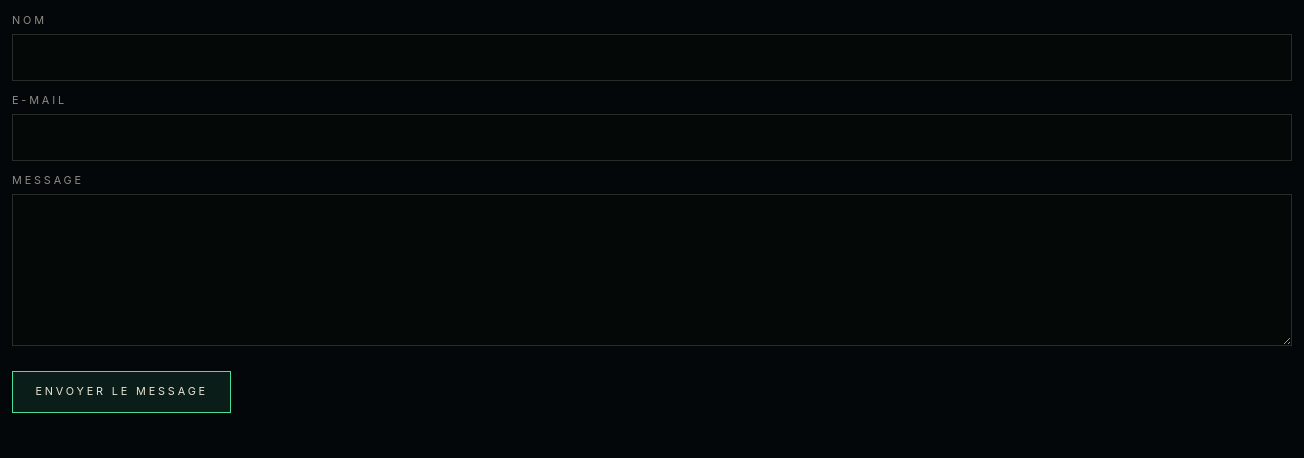
Test: ContactForm › envoie le formulaire et affiche la confirmation
Type "Camille Bertin" into the field labelled "Nom" at coordinates (652, 58), box [12,34,1292,82]
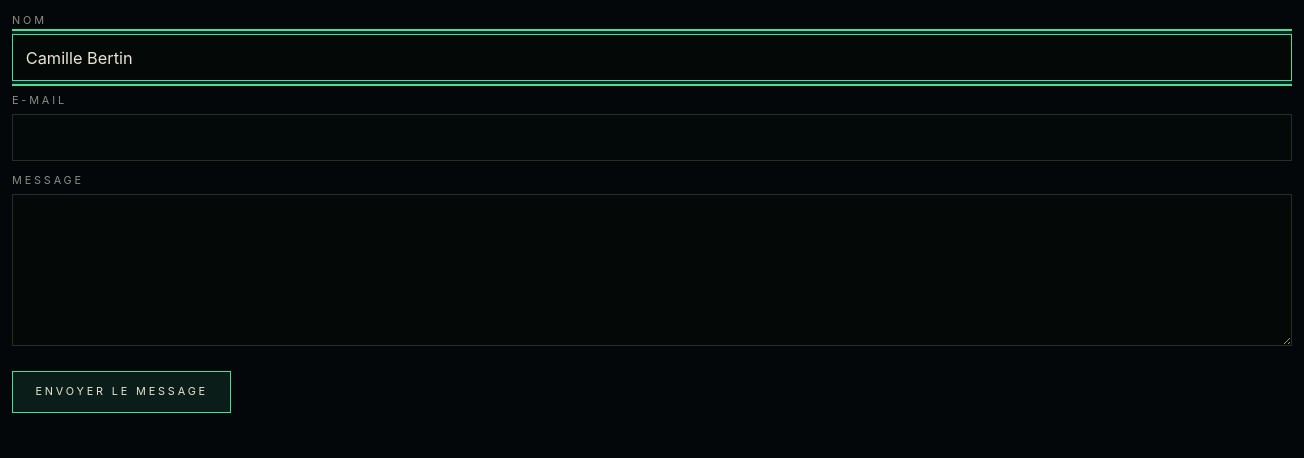
Type "camille@example.com" into the field labelled "E-mail" at coordinates (652, 138), box [12,114,1292,161]
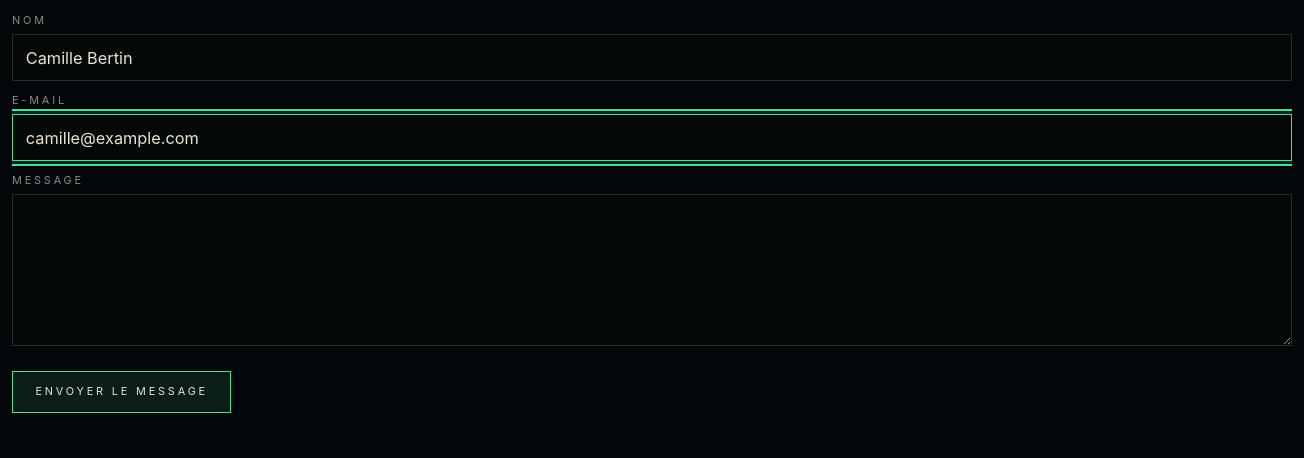
Type "Bonjour, je cherche un développeur pour un projet Next.js." into the text box labelled "Message" at coordinates (652, 270), box [12,194,1292,346]
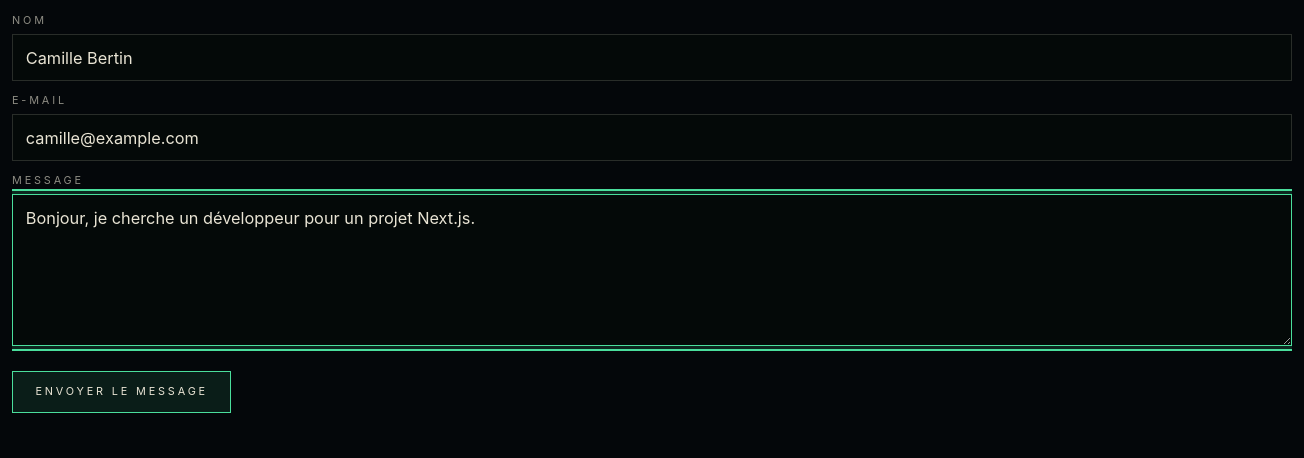
Click the button "Envoyer le message" at coordinates (122, 392), box [12,371,231,413]
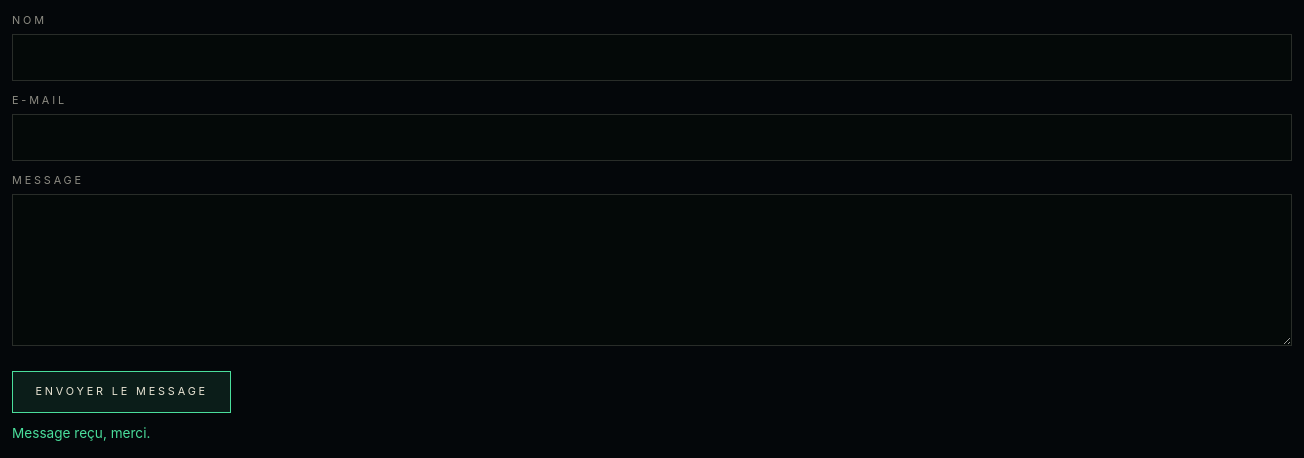
Result: the message shows "Message reçu" at [12,425,150,441]
